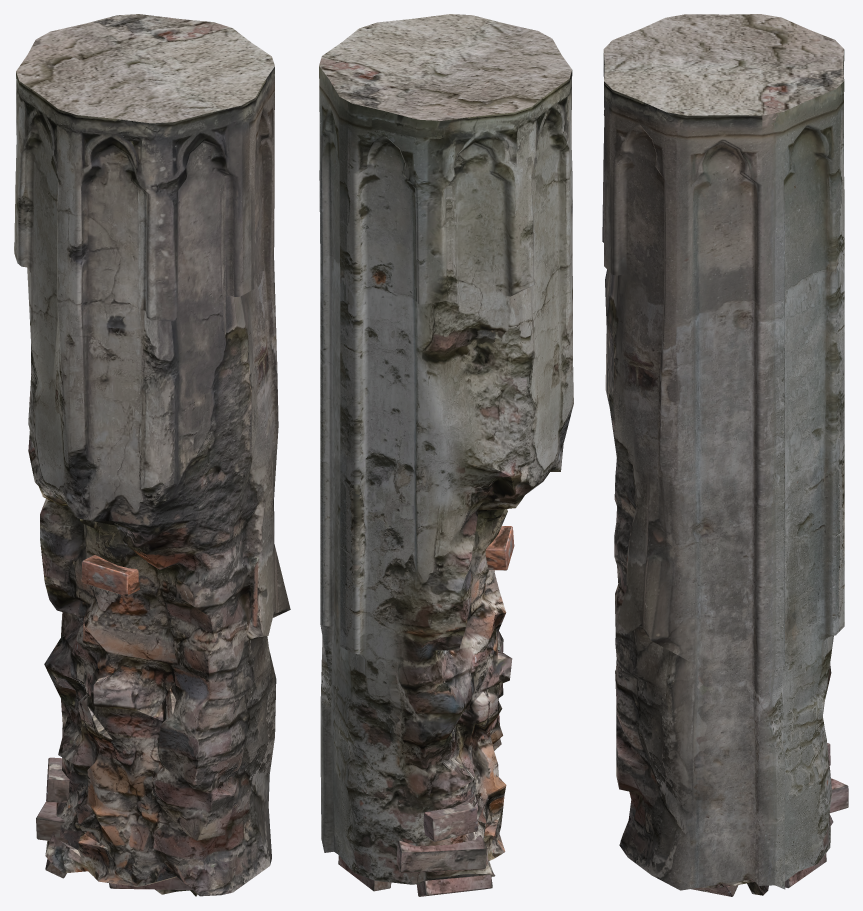
Rendered from SM_ChapelColumn_01_06.fbx.
3 views of the same model, side by side, from view 1: azimuth 30°, elevation 25°; view 2: azimuth 150°, elevation 25°; view 3: azimuth 270°, elevation 25° (orthographic). The views are drawn at different scales.
Parts seen in each view (by area): view 1: sm_ChapelColumn_01_06_LOD0; view 2: sm_ChapelColumn_01_06_LOD0; view 3: sm_ChapelColumn_01_06_LOD0.
Part boxes in pixels (x1,y1,x2,y2): sm_ChapelColumn_01_06_LOD0: (14,14,290,896); sm_ChapelColumn_01_06_LOD0: (319,14,573,896); sm_ChapelColumn_01_06_LOD0: (602,14,848,896).
Size of the model in its own units: 75.33 by 74.52 by 271.
